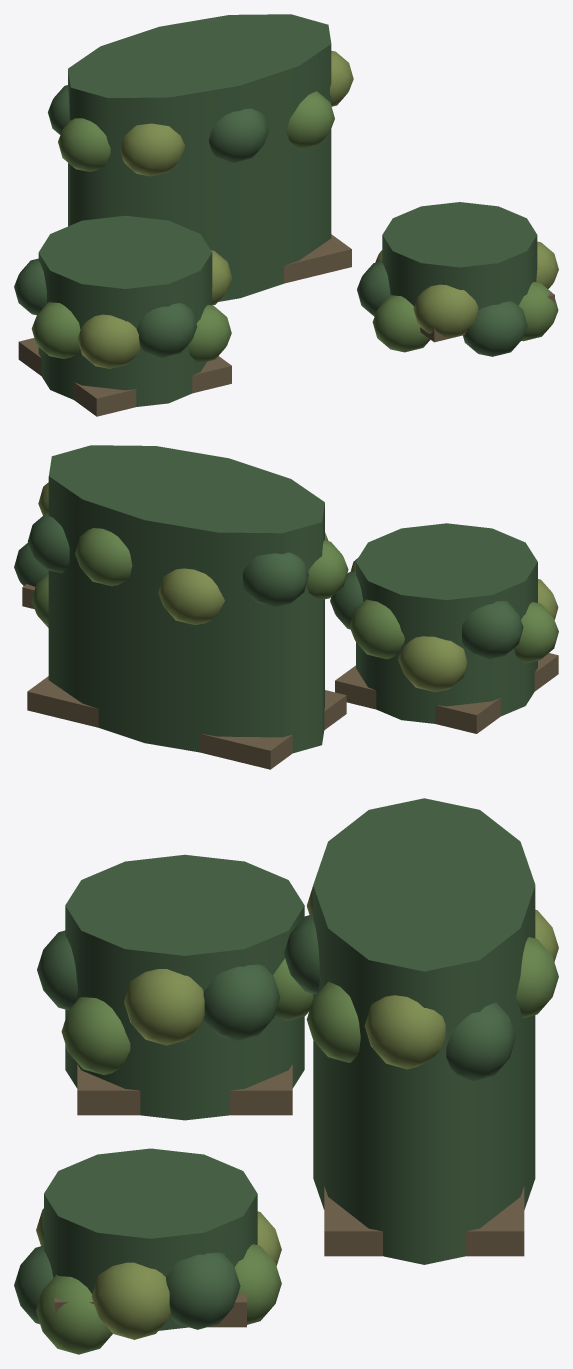
The picture shows the model from 3 angles, top to bottom: view 1: azimuth 30°, elevation 25°; view 2: azimuth 150°, elevation 25°; view 3: azimuth 270°, elevation 25°; orthographic projection. The views are drawn at different scales.
Parts seen in each view (by area): view 1: climb-hedge-9-0, 생울타리 10, climb-hedge-9-1, climb-hedge-9-2; view 2: climb-hedge-9-0, 생울타리 10, climb-hedge-9-1; view 3: climb-hedge-9-0, 생울타리 10, climb-hedge-9-1, climb-hedge-9-2.
Part boxes in pixels (x1=…): climb-hedge-9-0: x1=68, y1=14, x2=331, y2=301; 생울타리 10: x1=14, y1=50, x2=558, y2=416; climb-hedge-9-1: x1=38, y1=215, x2=212, y2=406; climb-hedge-9-2: x1=382, y1=202, x2=537, y2=310; climb-hedge-9-0: x1=48, y1=445, x2=324, y2=753; 생울타리 10: x1=14, y1=482, x2=558, y2=769; climb-hedge-9-1: x1=356, y1=523, x2=537, y2=723; climb-hedge-9-0: x1=313, y1=798, x2=535, y2=1264; 생울타리 10: x1=14, y1=886, x2=558, y2=1354; climb-hedge-9-1: x1=65, y1=854, x2=304, y2=1120; climb-hedge-9-2: x1=44, y1=1148, x2=257, y2=1330.
Bounding box in the file's own units: 4.73 × 2.15 × 3.19.
